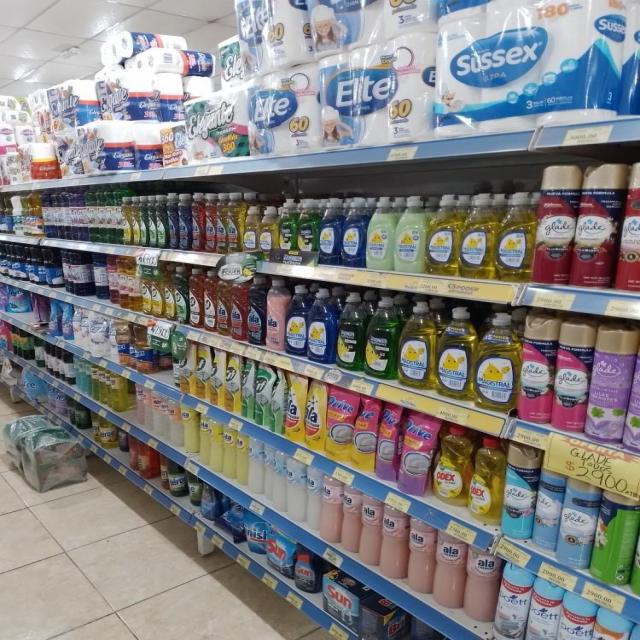ala_conc_amarillo: (228, 192, 243, 254), (217, 271, 230, 336), (216, 192, 228, 255)
ala_conc_azul: (248, 275, 264, 345), (178, 192, 191, 250), (168, 193, 178, 250)
ala_conc_rojo: (230, 274, 247, 342), (192, 192, 204, 252), (206, 192, 217, 254)
ala_crem_amarillo: (183, 405, 198, 455), (222, 425, 235, 480), (210, 419, 223, 474), (236, 431, 248, 489), (199, 413, 210, 468)
ala_crem_blanco: (288, 459, 306, 525), (306, 466, 321, 534), (273, 449, 287, 513), (264, 446, 278, 507), (249, 438, 263, 496)
ala_crem_rosado: (466, 546, 497, 623), (434, 534, 464, 610), (381, 506, 407, 580), (408, 520, 433, 594), (360, 497, 381, 568), (321, 476, 341, 545), (342, 485, 359, 554)
ala_sachet_amarillo: (306, 378, 324, 449)
cif_conc_bot_amarilla: (152, 263, 164, 317), (164, 265, 174, 320), (132, 196, 139, 247)
cif_conc_botella_roja: (188, 267, 203, 329), (204, 268, 216, 333)
drive: (400, 411, 434, 496)
magistral_con_amarillo: (475, 311, 517, 412), (437, 306, 474, 400), (497, 191, 533, 283), (399, 300, 435, 390), (461, 192, 496, 279), (427, 194, 460, 276), (260, 204, 278, 259), (244, 198, 259, 254)
magistral_con_azul: (308, 287, 336, 363), (342, 196, 366, 268), (319, 197, 341, 266), (286, 284, 307, 356)
magistral_con_crema: (395, 195, 425, 273), (366, 196, 394, 271)
odex: (469, 436, 502, 524), (435, 425, 468, 506)
